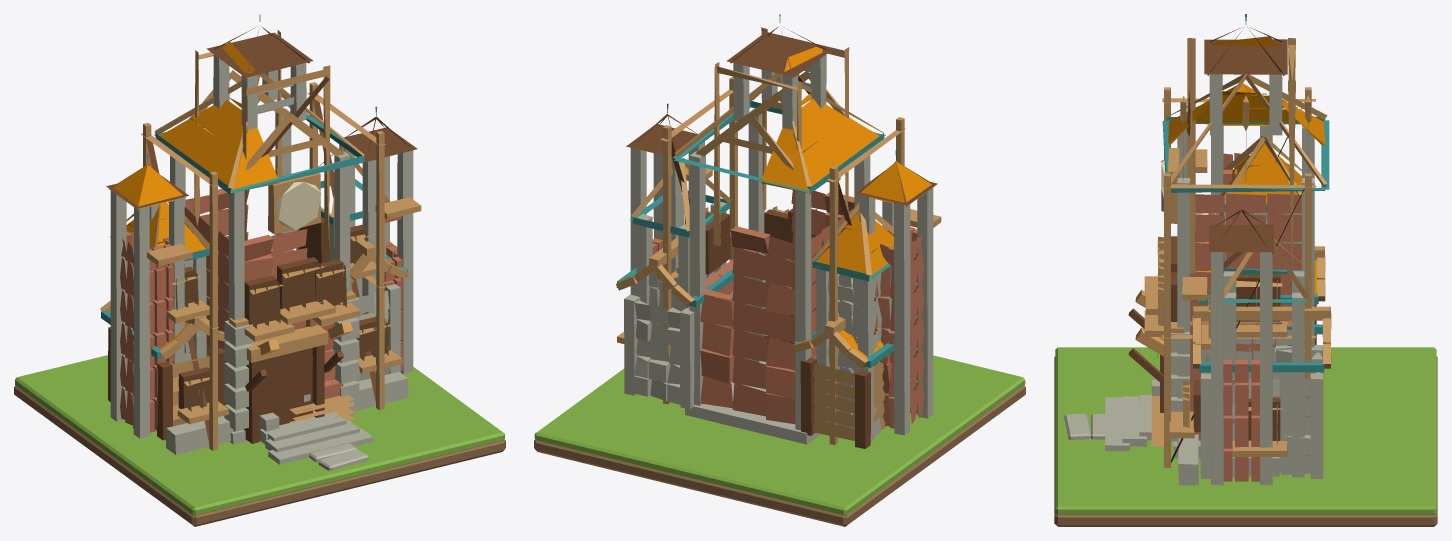
The model's file is town_hall_l10_construction_LOD2.glb.
3 views of the same model, side by side, from view 1: azimuth 30°, elevation 25°; view 2: azimuth 150°, elevation 25°; view 3: azimuth 270°, elevation 25° (orthographic). The views are drawn at different scales.
Visible parts, largest first — view 1: town_hall_l10_construction_foundation.001, town_hall_l10_construction_grass_tile.001, town_hall_l10_construction_earth_tile.001, town_hall_l10_construction_path_stone.005; view 2: town_hall_l10_construction_foundation.001, town_hall_l10_construction_grass_tile.001, town_hall_l10_construction_earth_tile.001; view 3: town_hall_l10_construction_foundation.001, town_hall_l10_construction_grass_tile.001, town_hall_l10_construction_earth_tile.001, town_hall_l10_construction_path_stone.005.
Boxes of the visible parts, x1,y1,x2,y2 form: town_hall_l10_construction_foundation.001: (100,14,421,464); town_hall_l10_construction_grass_tile.001: (15,355,504,515); town_hall_l10_construction_earth_tile.001: (14,385,505,526); town_hall_l10_construction_path_stone.005: (318,449,368,470); town_hall_l10_construction_foundation.001: (616,14,941,448); town_hall_l10_construction_grass_tile.001: (534,355,1025,515); town_hall_l10_construction_earth_tile.001: (534,385,1025,526); town_hall_l10_construction_foundation.001: (1105,14,1331,485); town_hall_l10_construction_grass_tile.001: (1055,347,1436,514); town_hall_l10_construction_earth_tile.001: (1054,356,1437,526); town_hall_l10_construction_path_stone.005: (1064,413,1090,439).
Size of the model in its own units: 3.6 by 4.49 by 3.6.
